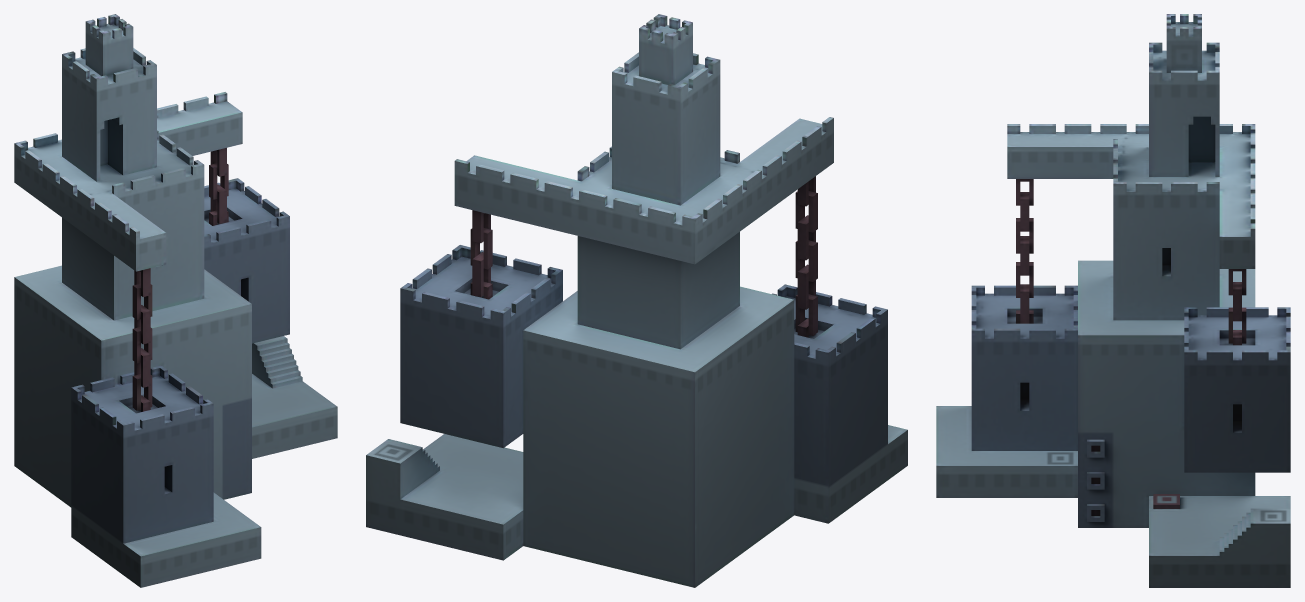
The picture shows the model from 3 angles, left to right: view 1: azimuth 30°, elevation 25°; view 2: azimuth 150°, elevation 25°; view 3: azimuth 270°, elevation 25°; orthographic projection. The views are drawn at different scales.
Visible parts, largest first — view 1: monu1; view 2: monu1; view 3: monu1.
Part boxes in pixels (box(x1,y1,x2,y2)): monu1: box(14, 14, 337, 587); monu1: box(366, 14, 907, 587); monu1: box(936, 14, 1290, 587).
Bounding box in the file's own units: 5.33 × 7.66 × 5.33.
1 material, 1 textured.
